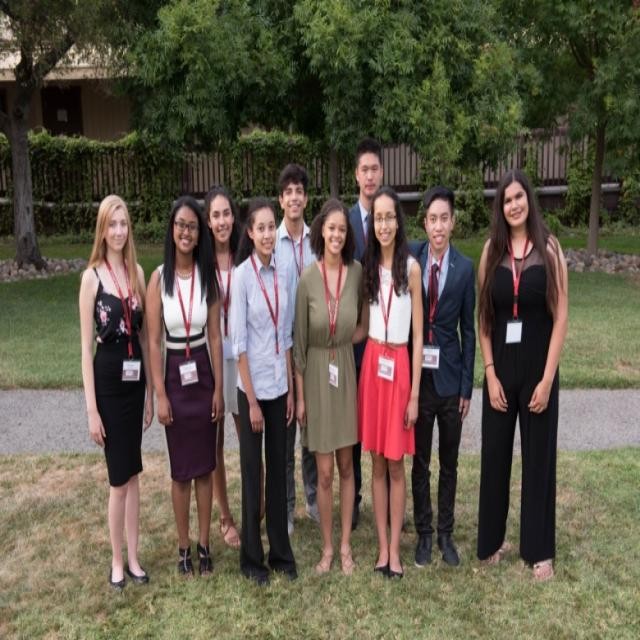body: (475, 166, 570, 584), (143, 194, 225, 583), (76, 192, 154, 597), (290, 196, 367, 580), (350, 185, 424, 582), (404, 181, 476, 571), (229, 195, 300, 587), (196, 181, 267, 551), (269, 160, 326, 538), (343, 136, 397, 534)
